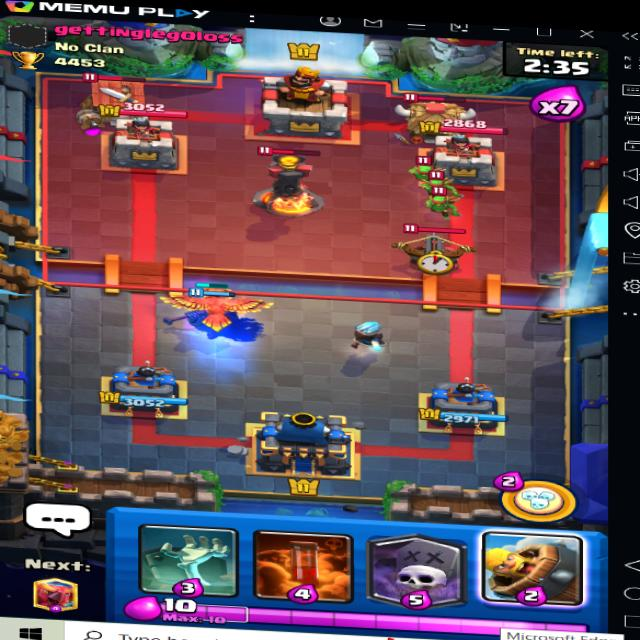Barbarianhut: (77, 68, 153, 133)
Goblinhut: (397, 88, 478, 146)
Infernotower: (247, 143, 329, 216)
Speargoblin: (422, 193, 462, 217), (421, 174, 451, 200), (410, 156, 440, 179)
Xbow: (391, 215, 480, 273)
